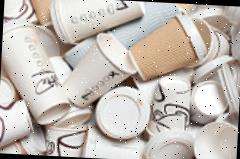paper: (126, 1, 232, 85), (0, 21, 74, 125), (59, 30, 138, 110), (47, 0, 145, 47), (144, 73, 190, 138), (0, 75, 33, 151)
